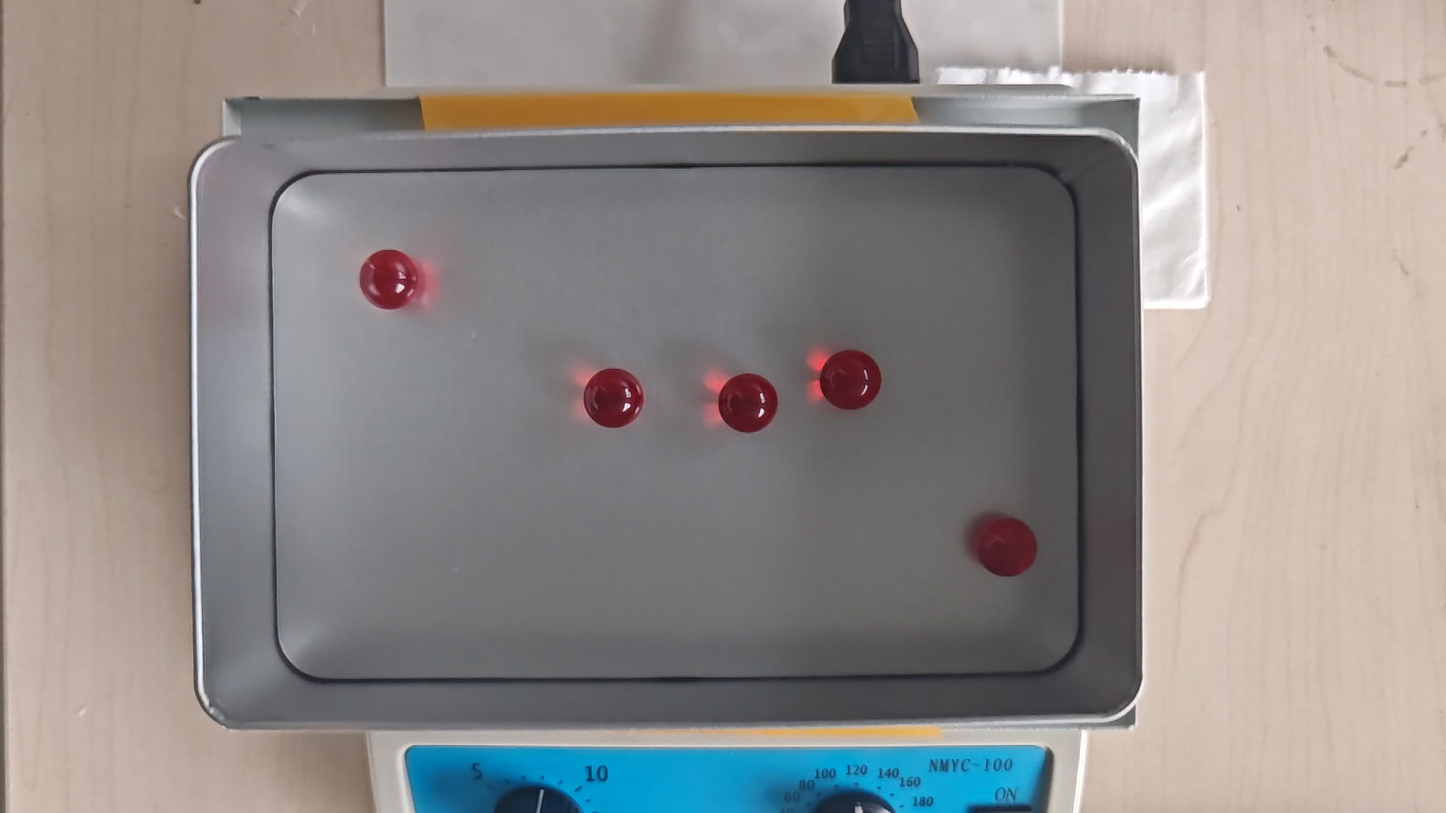ball: (581, 367, 645, 430), (716, 371, 778, 436), (976, 516, 1037, 580), (822, 347, 881, 411), (362, 250, 420, 310)
container: (273, 165, 1079, 679)
